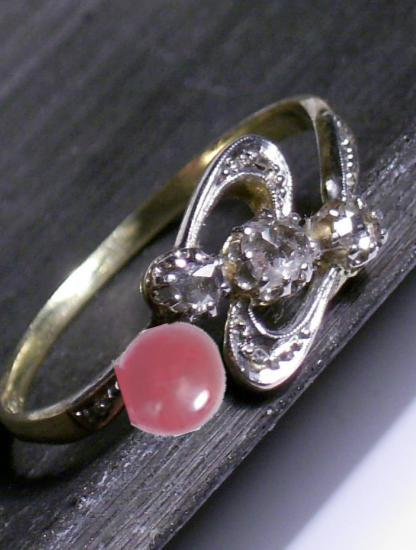Redcurrant: (117, 324, 229, 436)
